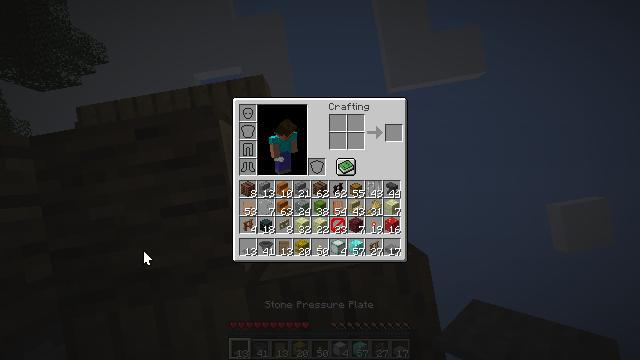cursor: (143, 250, 153, 266)
